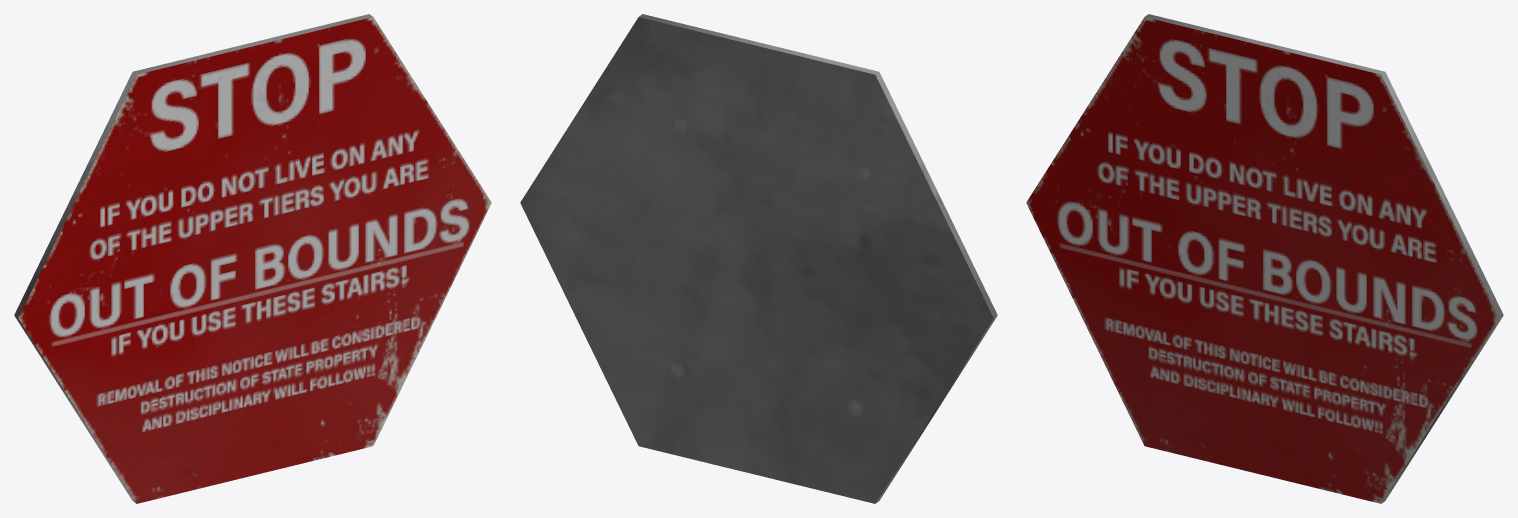
File: SM_Sign_24.fbx
3 renders of one model, left to right at view 1: azimuth 30°, elevation 25°; view 2: azimuth 150°, elevation 25°; view 3: azimuth 330°, elevation 25°, orthographic.
Parts seen in each view (by area): view 1: SM_Sign_24; view 2: SM_Sign_24; view 3: SM_Sign_24.
Part boxes in pixels (x1,y1,x2,y2): SM_Sign_24: (14, 14, 491, 503); SM_Sign_24: (520, 14, 997, 503); SM_Sign_24: (1026, 14, 1503, 503).
Bounding box in the file's own units: 76.36 × 1.15 × 66.13.
Materials: 1 (1 with a texture image).
